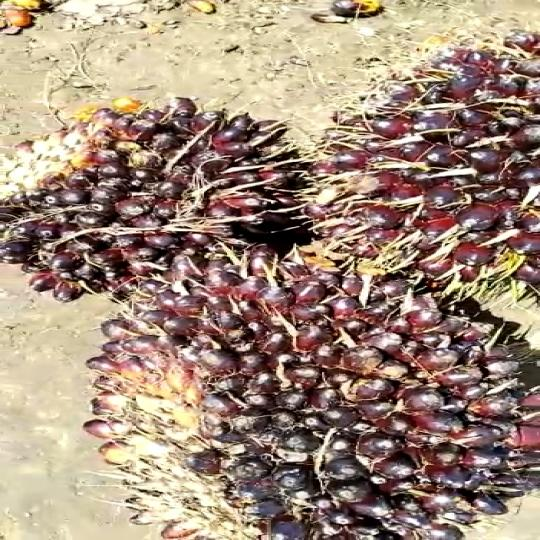mentah: (80, 239, 540, 540), (1, 93, 356, 286), (305, 26, 540, 304)
